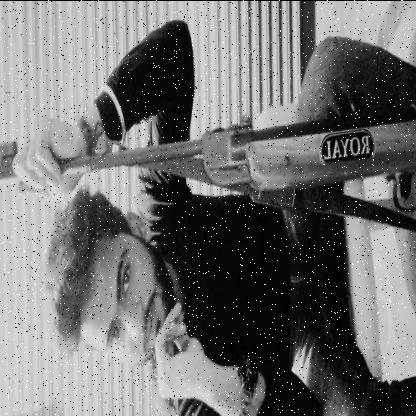rifle: (0, 107, 416, 197)
